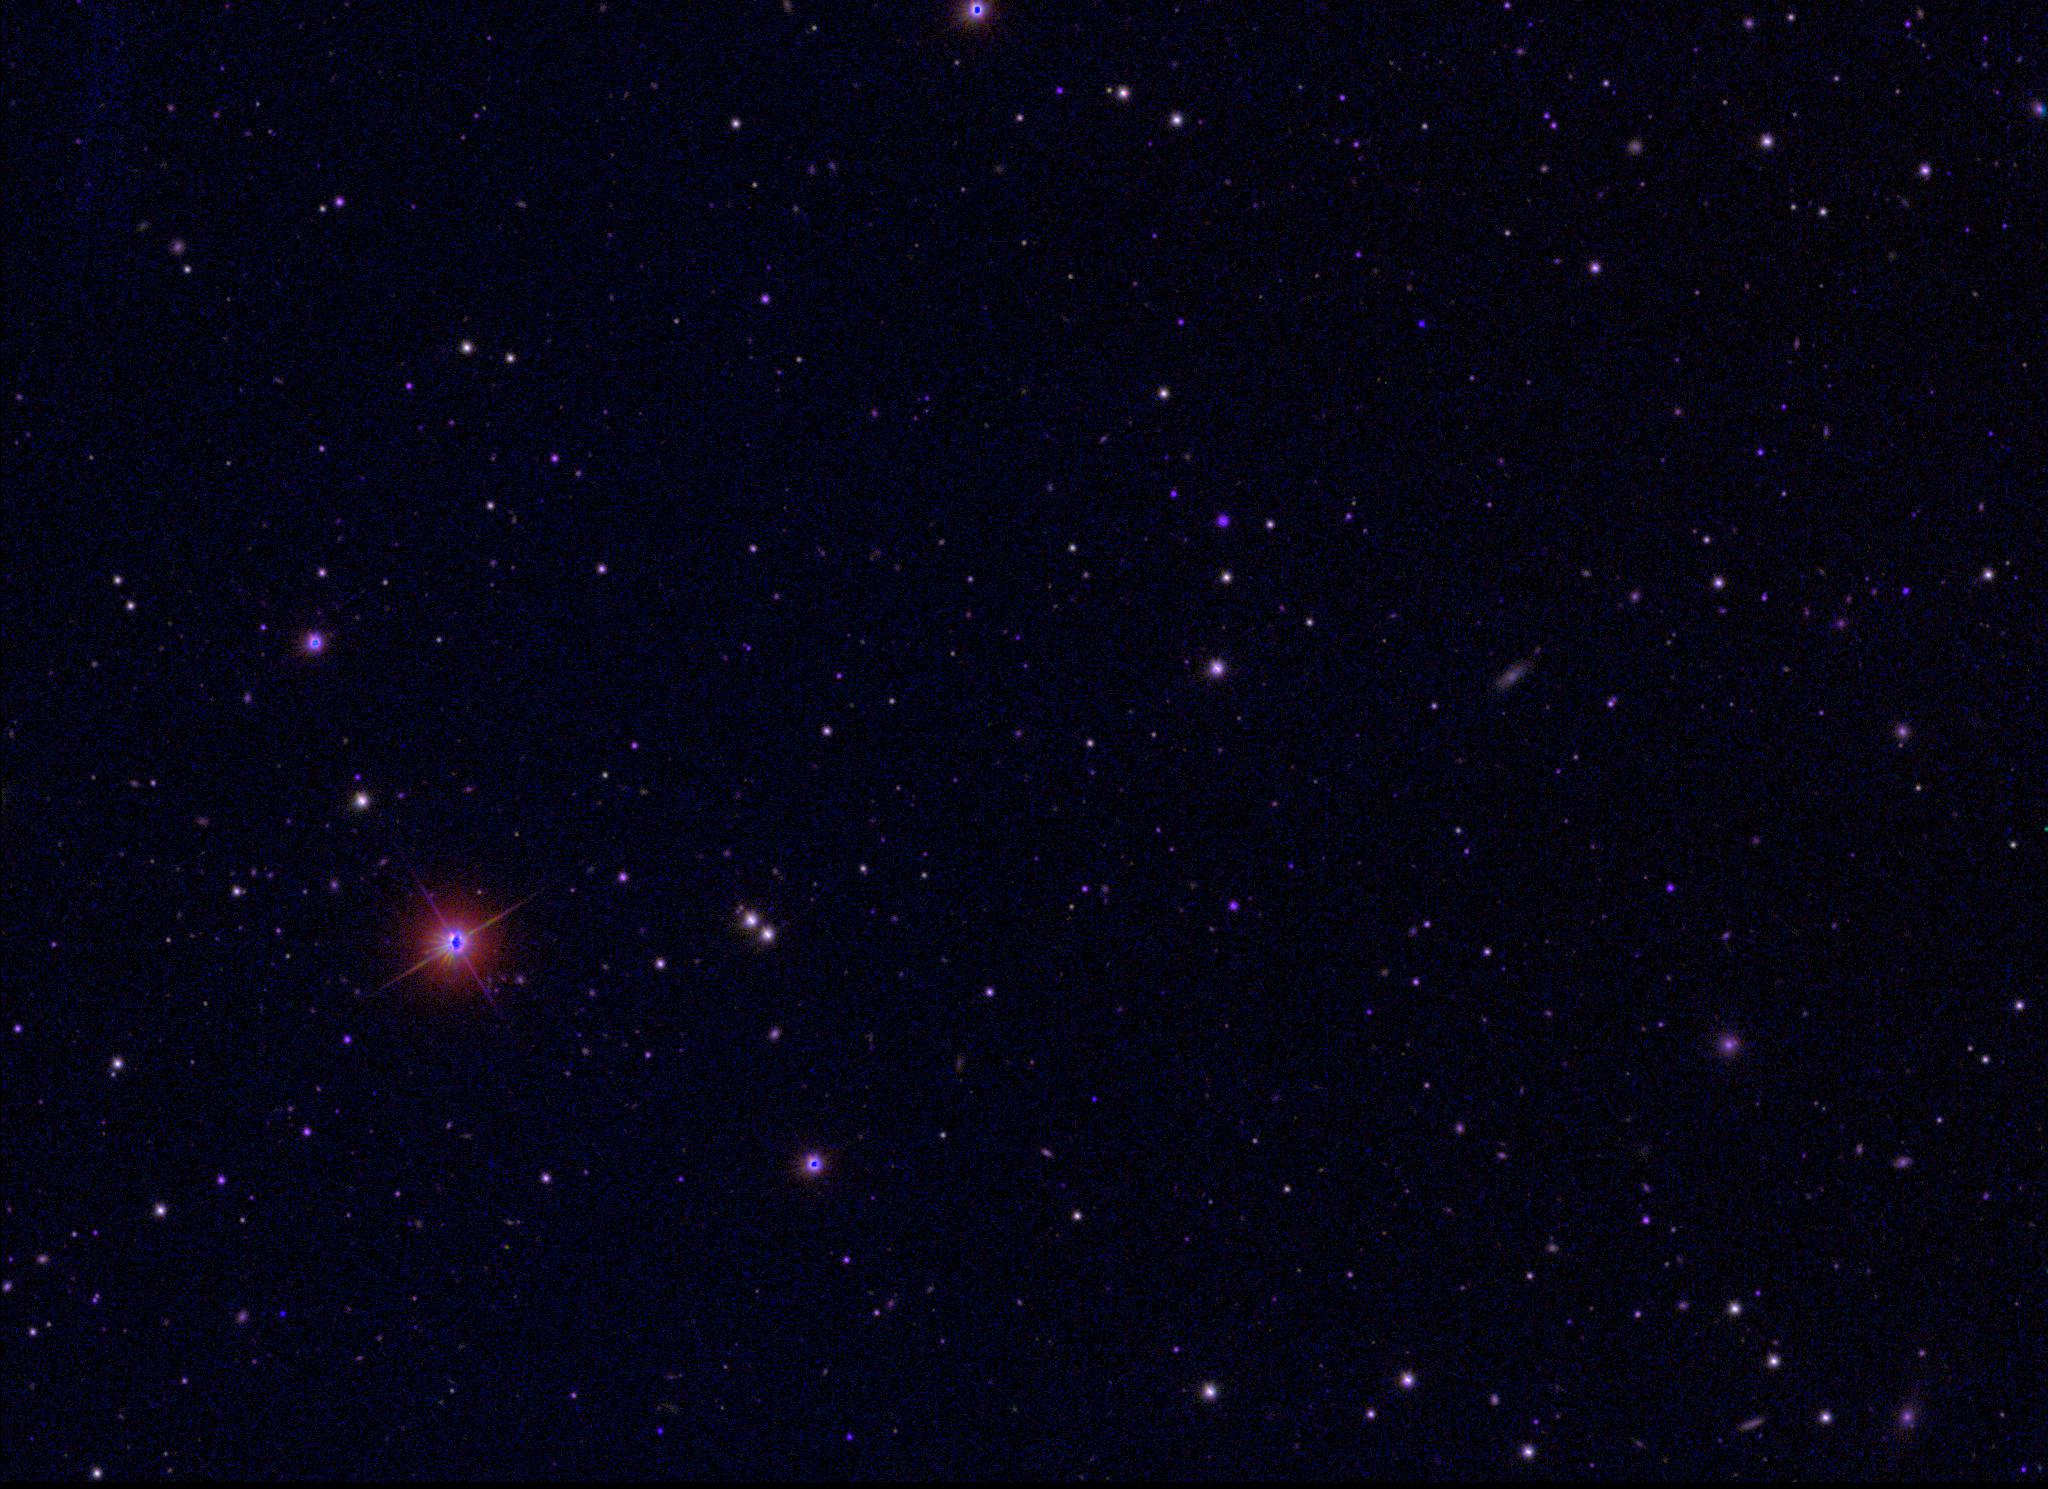L: (273, 1306, 286, 1320)
